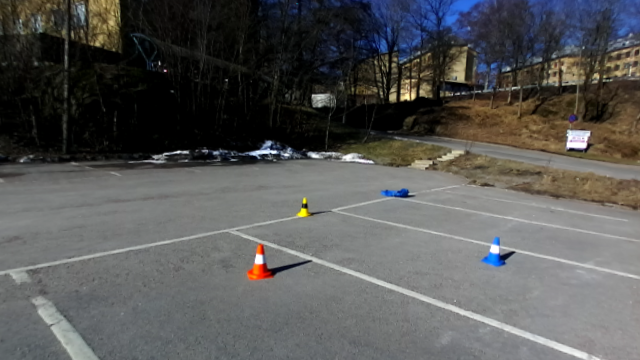blue: (481, 237, 507, 267)
orange: (243, 244, 277, 280)
yellow: (294, 198, 314, 219)
